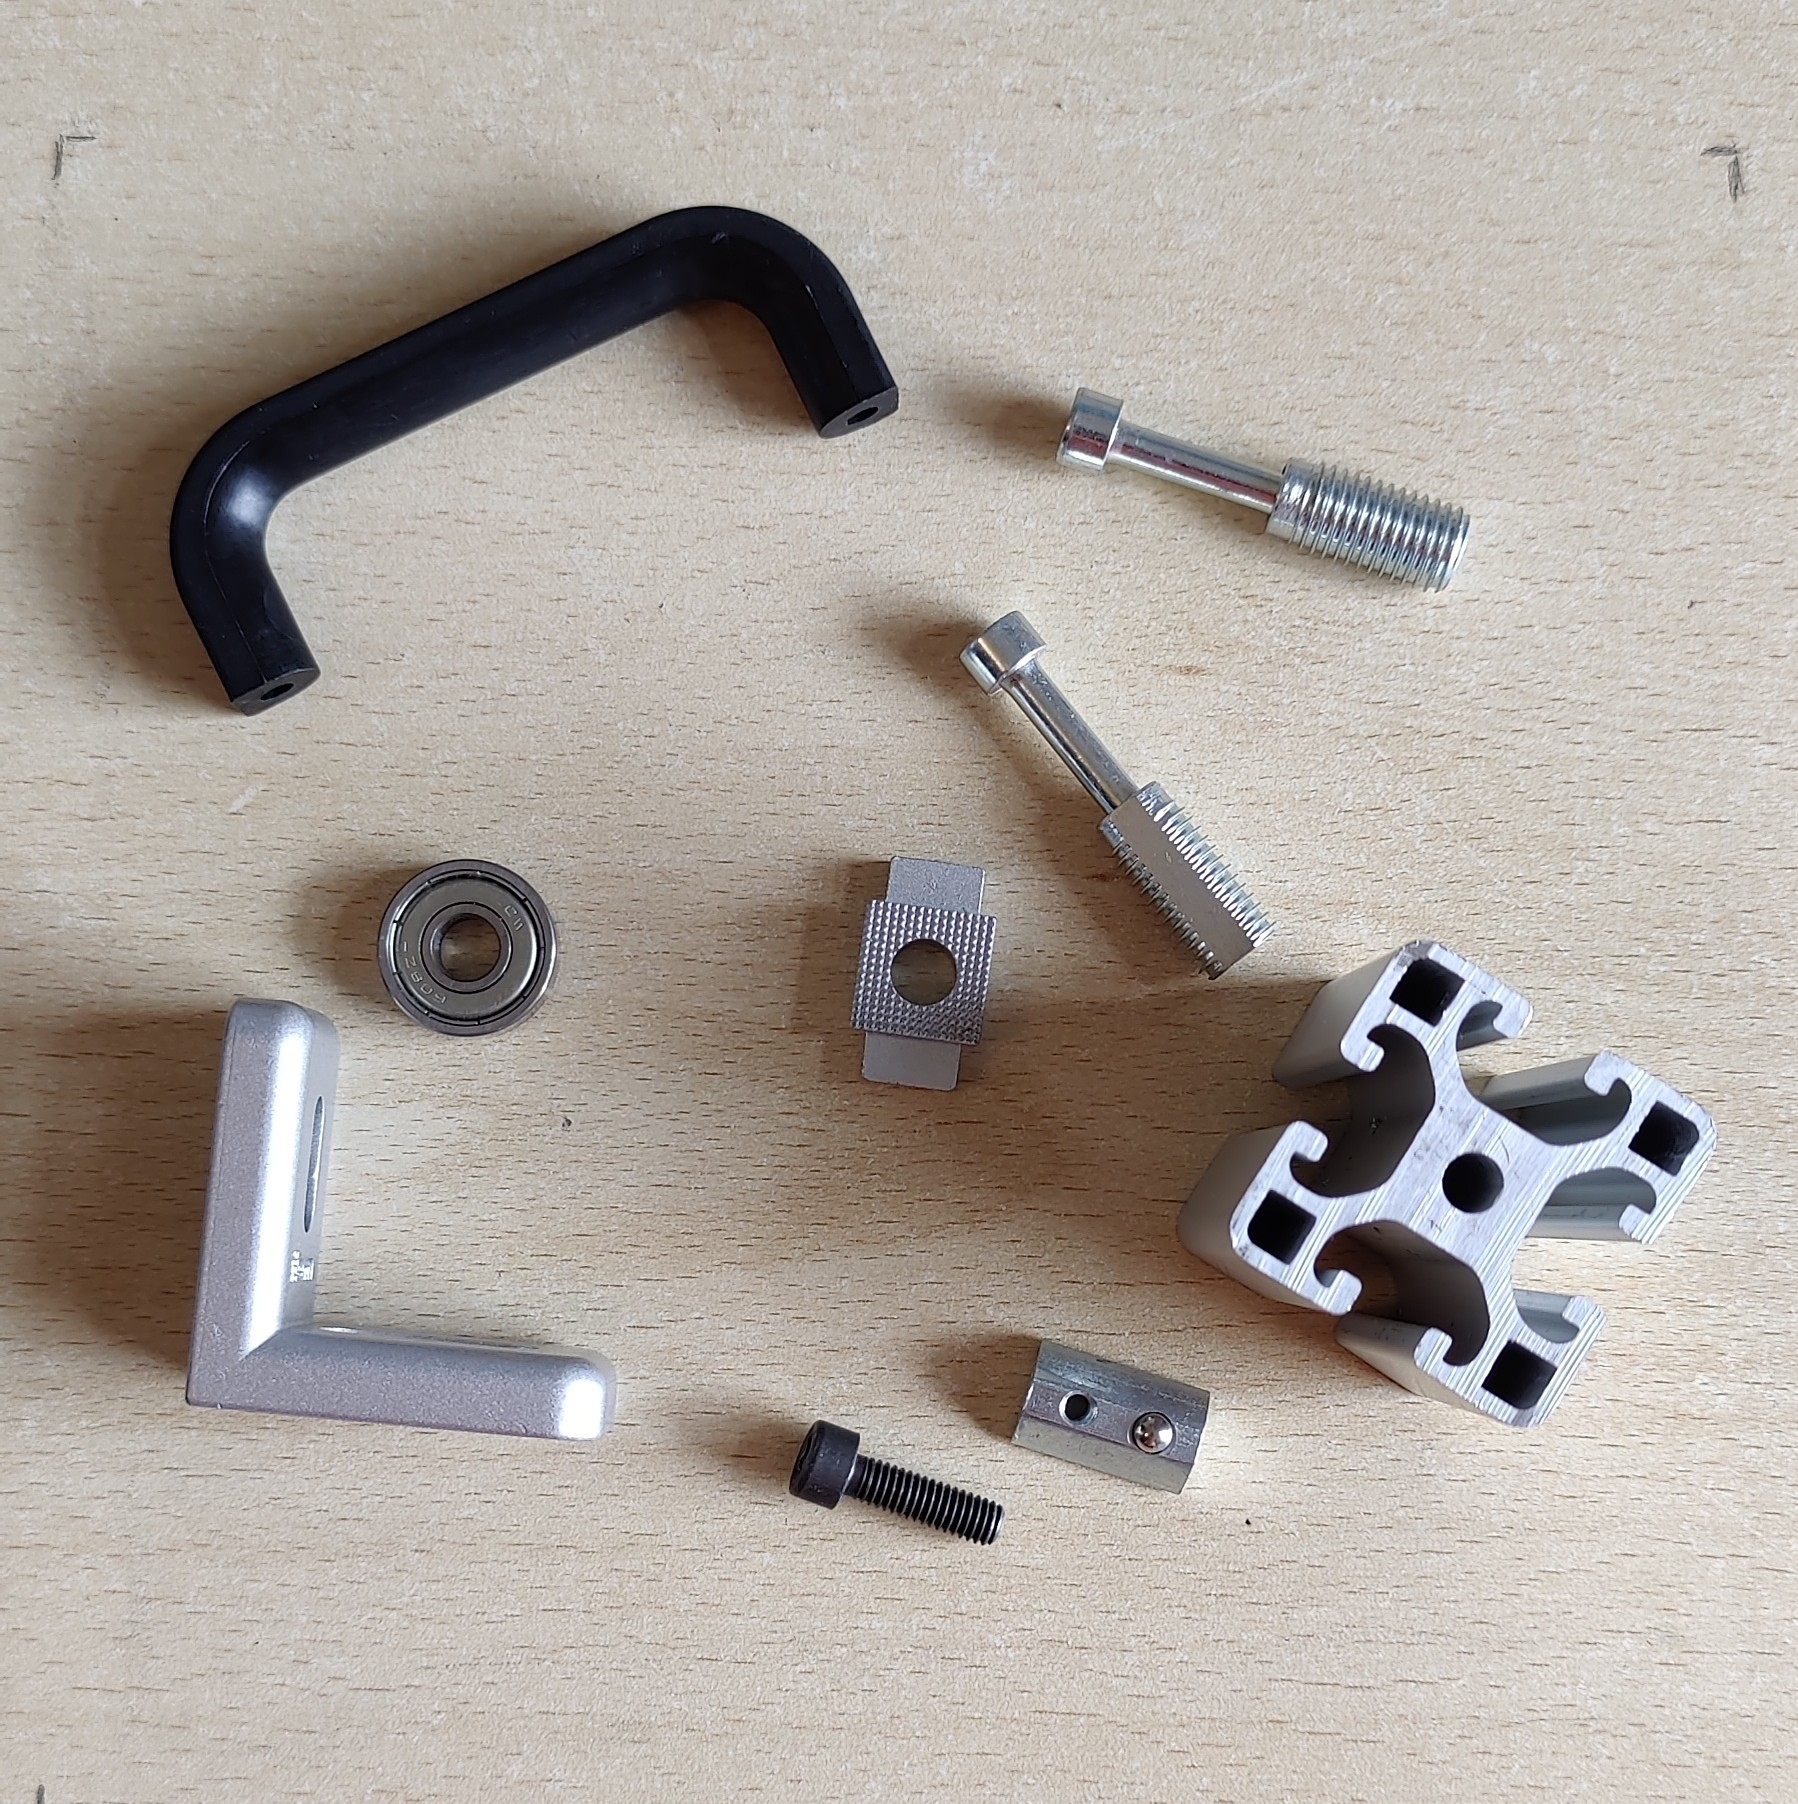Aluminium Extension: (1176, 938, 1717, 1430)
Ball Bearing: (374, 856, 561, 1040)
Multiwinkel: (184, 994, 621, 1444)
Pull Handle: (166, 204, 902, 718)
Shoulder Socket Head Cap Screw: (955, 607, 1281, 984), (1055, 384, 1477, 596)
Socket Head Cap Screw: (785, 1420, 1008, 1551)
T Nut Square: (848, 853, 998, 1096)
T Spring Nut: (1004, 1337, 1213, 1496)
